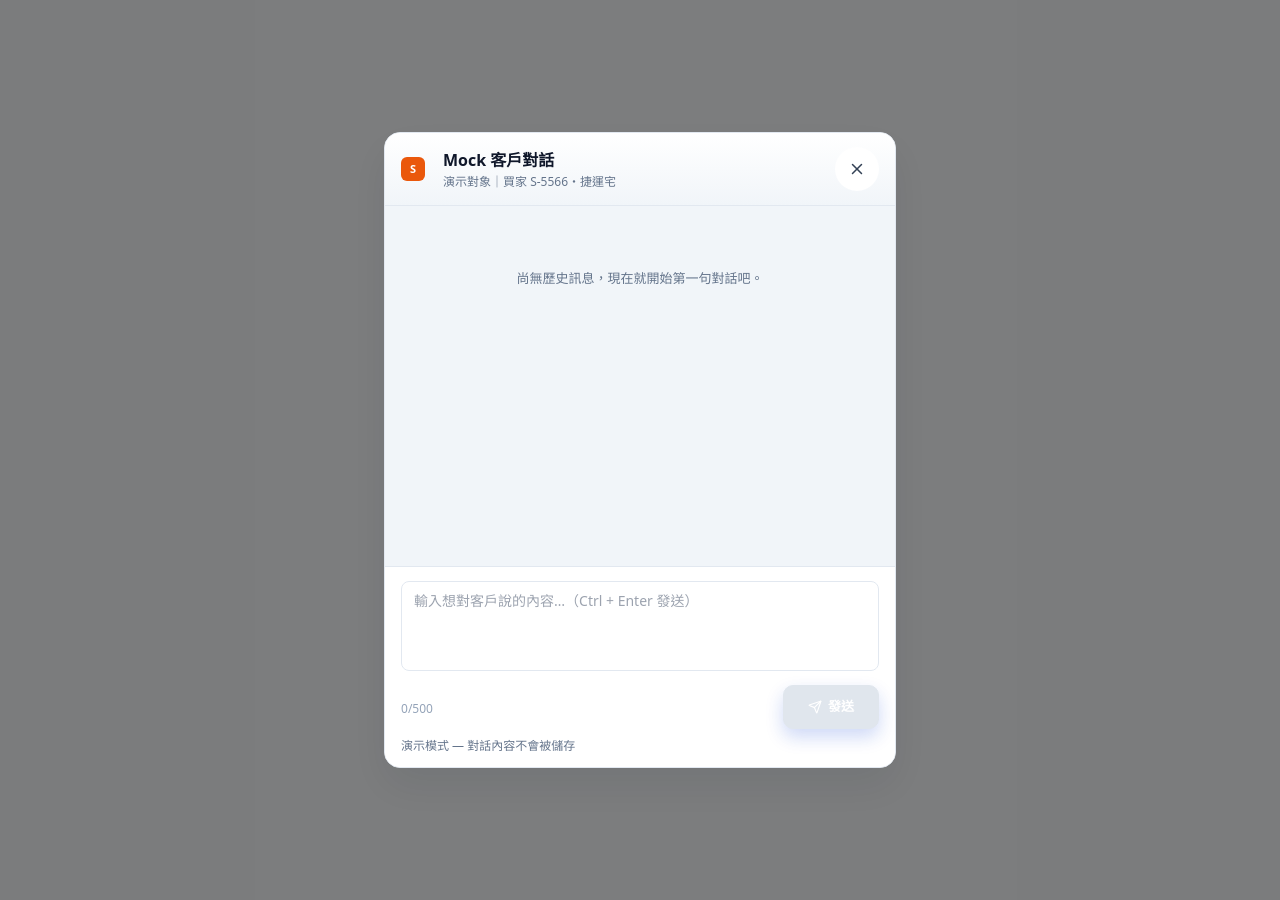
MockChatModal › 支援 Ctrl+Enter 快捷發送
Type "Ctrl+Enter 測試訊息" into the text box named "輸入訊息" at (640, 626), box [401,581,879,671]
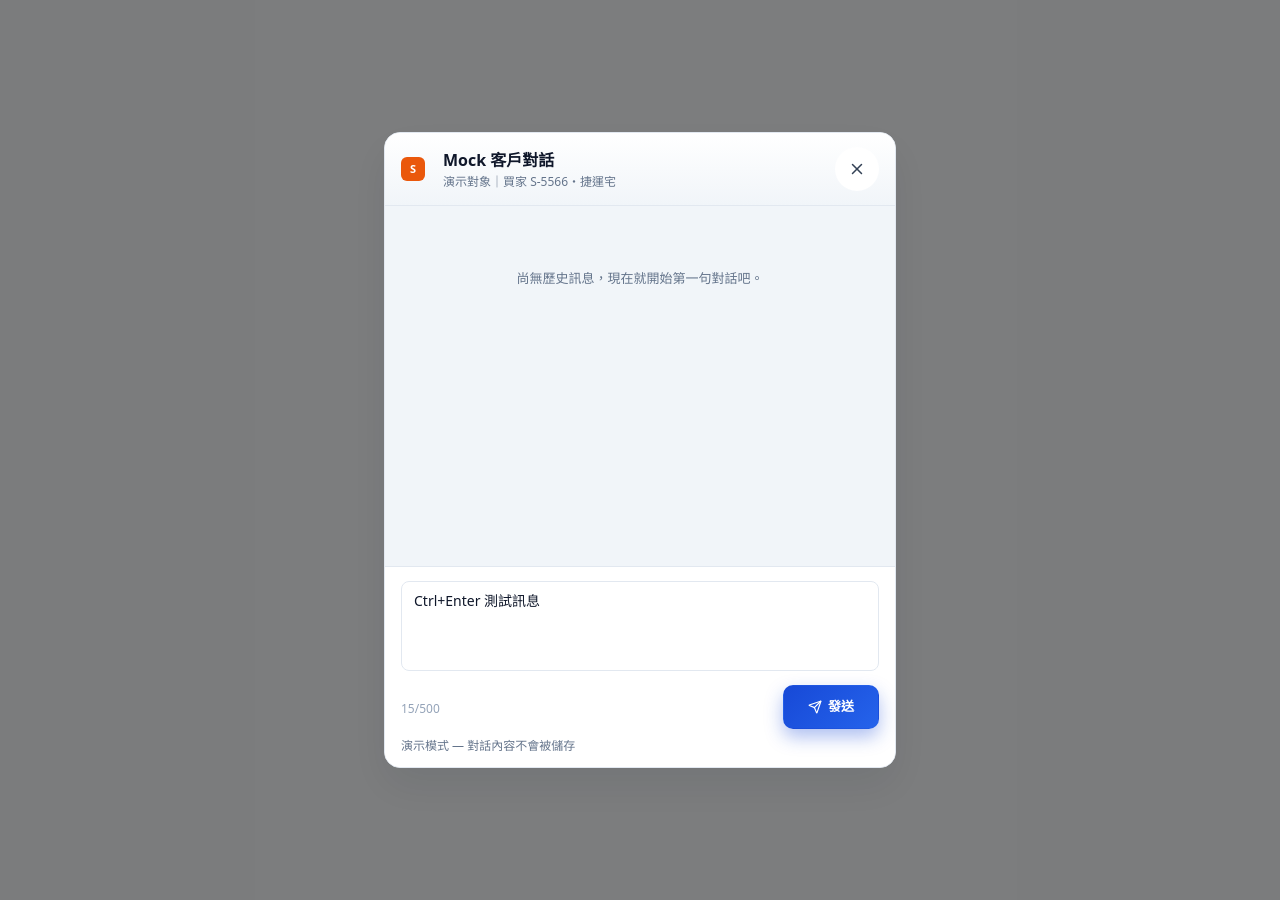
Press Enter in the text box named "輸入訊息", box [401,581,879,671]
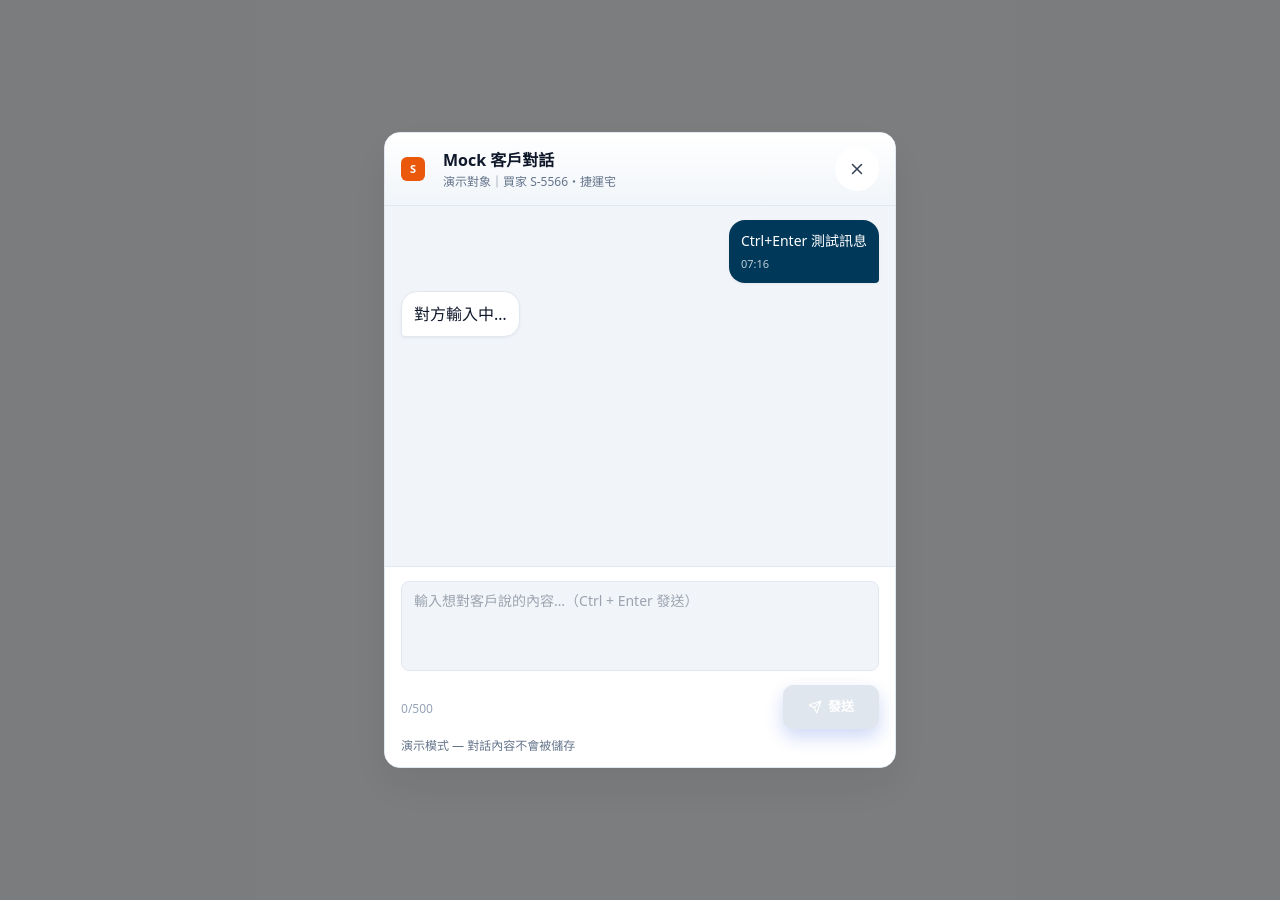
Result: the text "Ctrl+Enter 測試訊息" is shown at [741,230,867,252]
